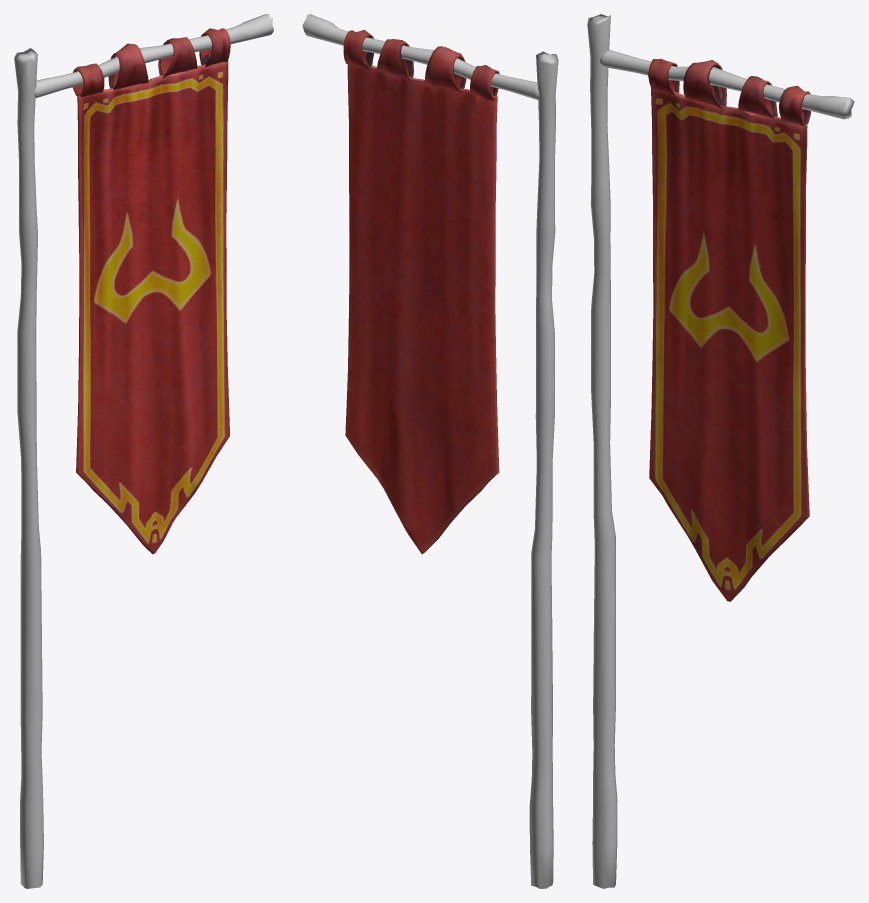
3 renders of one model, left to right at view 1: azimuth 30°, elevation 25°; view 2: azimuth 150°, elevation 25°; view 3: azimuth 330°, elevation 25°, orthographic. The views are drawn at different scales.
Parts seen in each view (by area): view 1: SM_Single_Banner_Zamorak_02v2_LOD0; view 2: SM_Single_Banner_Zamorak_02v2_LOD0; view 3: SM_Single_Banner_Zamorak_02v2_LOD0.
Boxes of the visible parts, left/top/right/bottom form: SM_Single_Banner_Zamorak_02v2_LOD0: left=14, top=14, right=273, bottom=888; SM_Single_Banner_Zamorak_02v2_LOD0: left=302, top=14, right=558, bottom=888; SM_Single_Banner_Zamorak_02v2_LOD0: left=587, top=14, right=854, bottom=888.
Size of the model in its own units: 1.39 by 4.39 by 0.1565.
